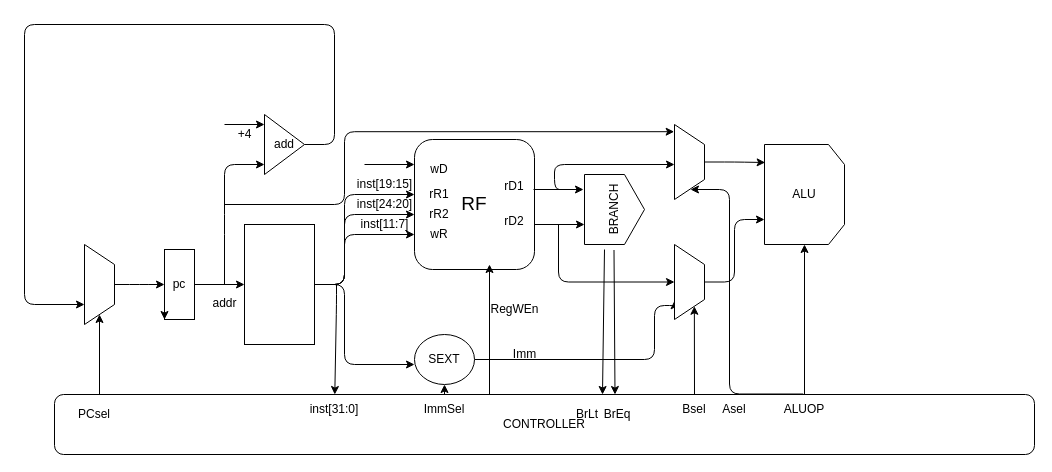
Some shapes in this 1052 by 472 pixel diagram are drawn without their labels. The centre of each missing label's shape, as x and y in pixels:
IM (IROM): (279,284)
mA: (689,162)
mB: (689,282)
npc: (99,284)
